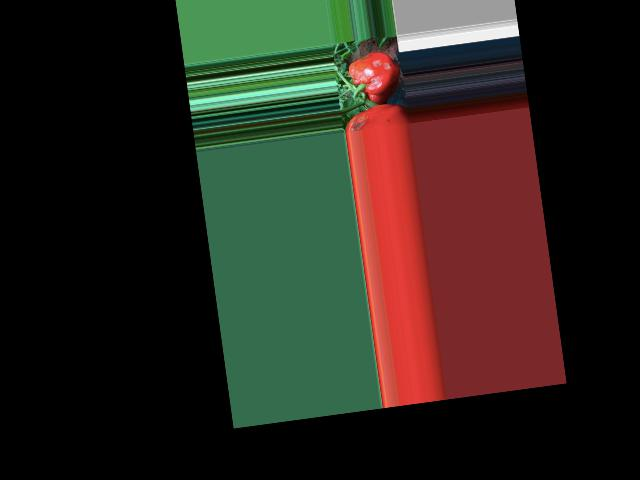bell_pepper: (342, 51, 406, 106)
